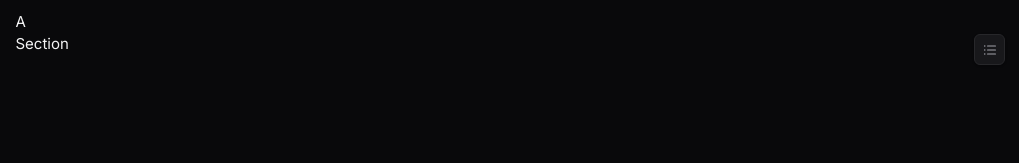
Test case: M9 page layout › test the inspector toggle opens the page inspector
Later steps or results of the test are not shown.
Click the button named "Inspector".
click(990, 50)  # box [974,34,1005,65]
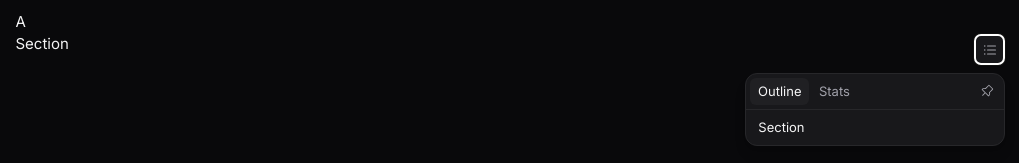
Expected: the button "Section" is shown, [750,114,1001,141]
